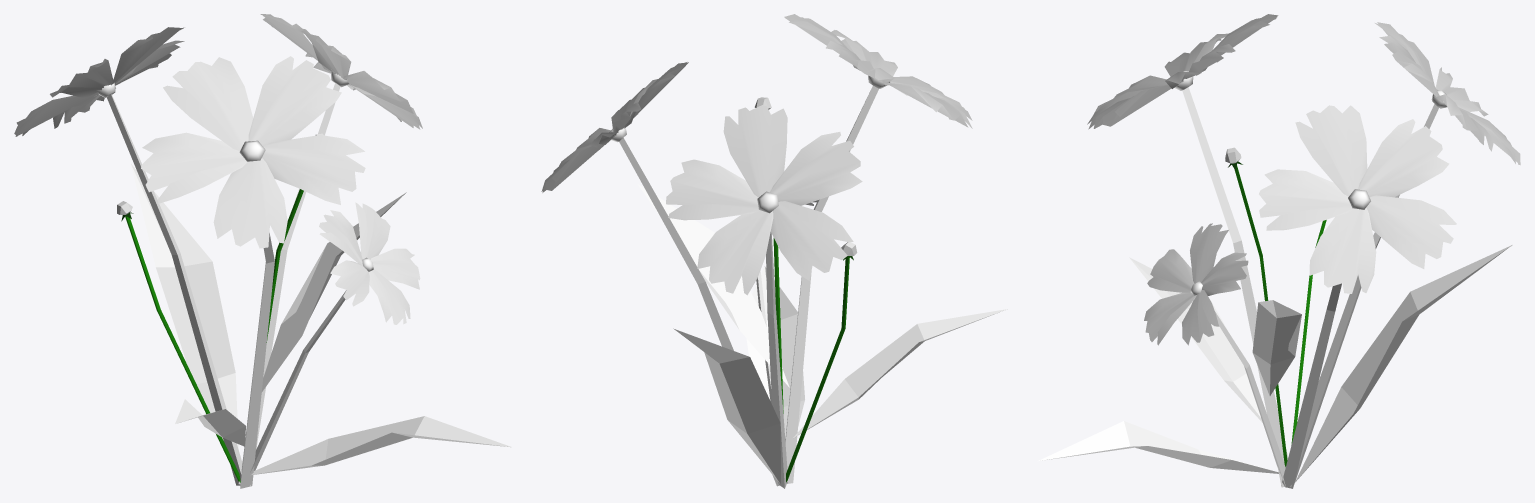
File: flower.glb
3 views of the same model, side by side, from view 1: azimuth 30°, elevation 25°; view 2: azimuth 150°, elevation 25°; view 3: azimuth 270°, elevation 25° (orthographic).
Parts seen in each view (by area): view 1: Circle.008; view 2: Circle.008; view 3: Circle.008.
Part boxes in pixels (x1=…): Circle.008: x1=14, y1=14, x2=511, y2=488; Circle.008: x1=541, y1=14, x2=1007, y2=488; Circle.008: x1=1038, y1=14, x2=1520, y2=488.
Size of the model in its own units: 1.44 by 1.77 by 1.74.
